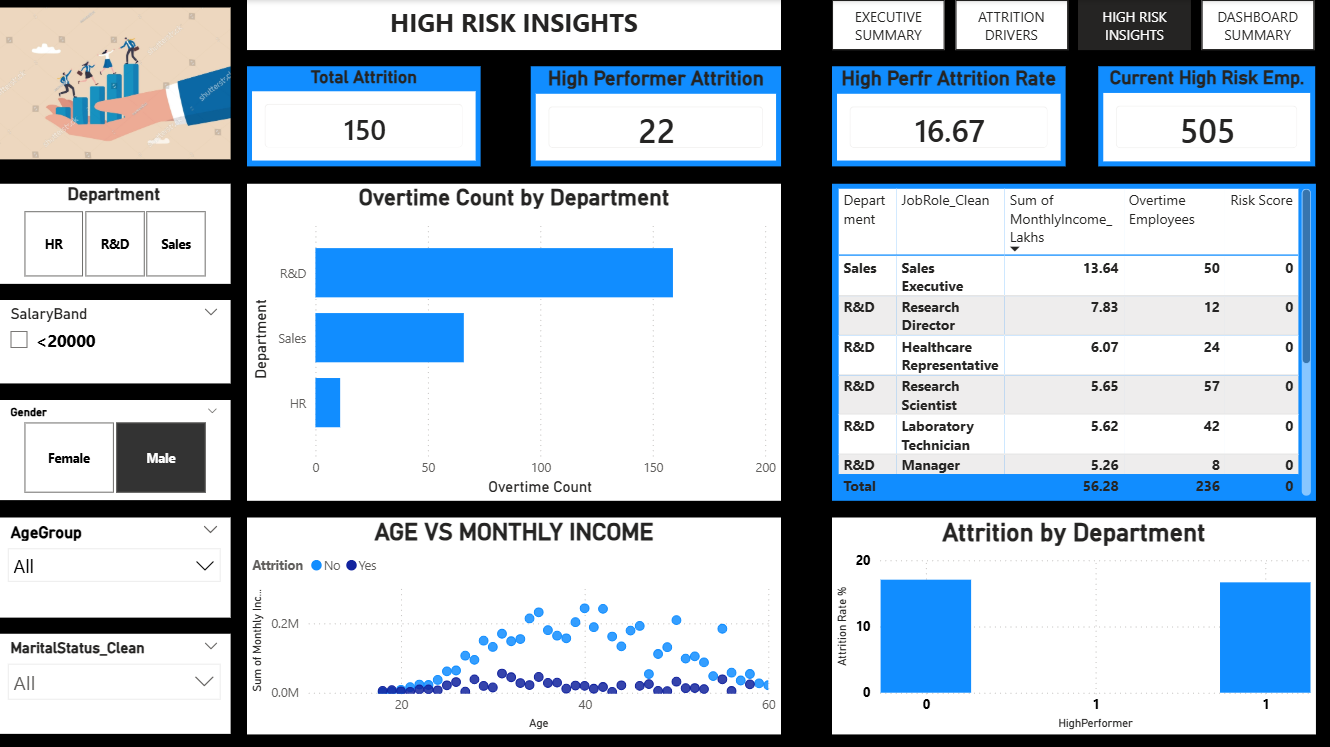

The dashboard page shown, as its layout file describes it:
{"tool":"powerbi","page":{"name":"HIGH RISK INSIGHTS","canvas":[1280,720],"ordinal":2},"visuals":[{"type":"cardVisual","title":"Total Attrition ","fields":{"Data":["HR_Data_Cleaned.Attrition Count"]},"box":[240,64,224,96],"z":0},{"type":"cardVisual","title":"High Perfr Attrition Rate","fields":{"Data":["HR_Data_Cleaned.High Performers Attrition %"]},"box":[800,64,224,96],"z":1000},{"type":"cardVisual","title":"High Performer Attrition","fields":{"Data":["HR_Data_Cleaned.High Performers Attrition"]},"box":[512,64,240,96],"z":3000},{"type":"cardVisual","title":"Current High Risk Emp.","fields":{"Data":["HR_Data_Cleaned.High Risk Employees"]},"box":[1056,64,208,96],"z":4000},{"type":"clusteredColumnChart","title":"Attrition by Department","fields":{"Category":["HR_Data_Cleaned.HighPerformer"],"Y":["HR_Data_Cleaned.Attrition Rate %"]},"box":[800,496,464,208],"z":8000},{"type":"tableEx","title":"Jobs by Attrition","fields":{"Values":["HR_Data_Cleaned.Department","HR_Data_Cleaned.JobRole_Clean","Sum(HR_Data_Cleaned.MonthlyIncome_Lakhs)","HR_Data_Cleaned.Overtime Employees","HR_Data_Cleaned.Risk Score"]},"box":[800,176,464,304],"z":9000},{"type":"scatterChart","title":"AGE VS MONTHLY INCOME","fields":{"Series":["HR_Data_Cleaned.Attrition"],"X":["HR_Data_Cleaned.Age"],"Y":["Sum(HR_Data_Cleaned.Monthly Income)"]},"box":[240,496,512,208],"z":10000},{"type":"slicer","fields":{"Values":["HR_Data_Cleaned.Gender"]},"box":[0,384,224,96],"z":12000},{"type":"slicer","fields":{"Values":["HR_Data_Cleaned.SalaryBand"]},"box":[0,288,224,80],"z":13000},{"type":"slicer","title":"Department","fields":{"Values":["HR_Data_Cleaned.Department"]},"box":[0,176,224,96],"z":14000},{"type":"slicer","fields":{"Values":["HR_Data_Cleaned.MaritalStatus_Clean"]},"box":[0,608,224,96],"z":15000},{"type":"slicer","fields":{"Values":["HR_Data_Cleaned.AgeGroup"]},"box":[0,496,224,96],"z":16000},{"type":"textbox","box":[240,0,512,48],"z":17000},{"type":"image","box":[0,0,224,160],"z":18000},{"type":"barChart","fields":{"Category":["HR_Data_Cleaned.Department"],"Y":["HR_Data_Cleaned.Overtime Count"]},"box":[240,176,512,304],"z":18001},{"type":"pageNavigator","box":[800,0,464,48],"z":18002}]}

Visuals, with their boxes in screenshot pixels (x1, y1, x2, y2), scaled from the page's 1280x720 canvas onto the 1330x747 screenshot:
"Total Attrition " cardVisual: select_region(249, 66, 482, 166)
"High Perfr Attrition Rate" cardVisual: select_region(831, 66, 1064, 166)
"High Performer Attrition" cardVisual: select_region(532, 66, 781, 166)
"Current High Risk Emp." cardVisual: select_region(1097, 66, 1313, 166)
"Attrition by Department" clusteredColumnChart: select_region(831, 515, 1313, 730)
"Jobs by Attrition" tableEx: select_region(831, 183, 1313, 498)
"AGE VS MONTHLY INCOME" scatterChart: select_region(249, 515, 781, 730)
slicer - HR_Data_Cleaned.Gender: select_region(0, 398, 233, 498)
slicer - HR_Data_Cleaned.SalaryBand: select_region(0, 299, 233, 382)
"Department" slicer: select_region(0, 183, 233, 282)
slicer - HR_Data_Cleaned.MaritalStatus_Clean: select_region(0, 631, 233, 730)
slicer - HR_Data_Cleaned.AgeGroup: select_region(0, 515, 233, 614)
textbox: select_region(249, 0, 781, 50)
image: select_region(0, 0, 233, 166)
barChart - HR_Data_Cleaned.Department x HR_Data_Cleaned.Overtime Count: select_region(249, 183, 781, 498)
pageNavigator: select_region(831, 0, 1313, 50)
